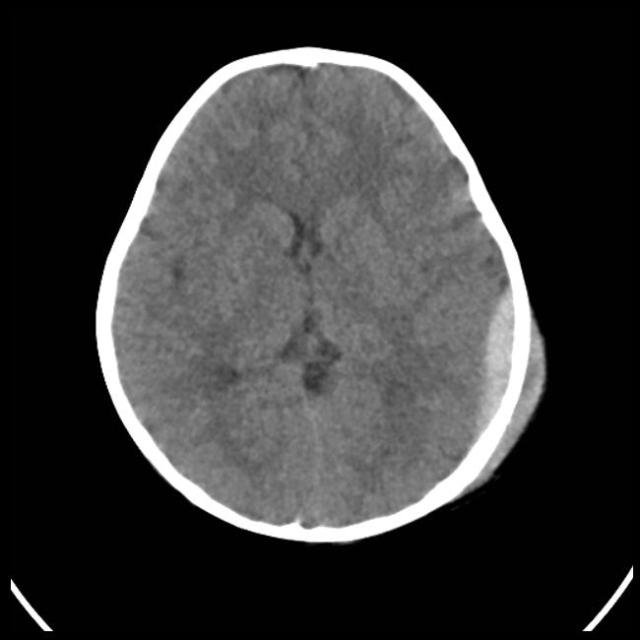lesion: (93, 45, 548, 542)
